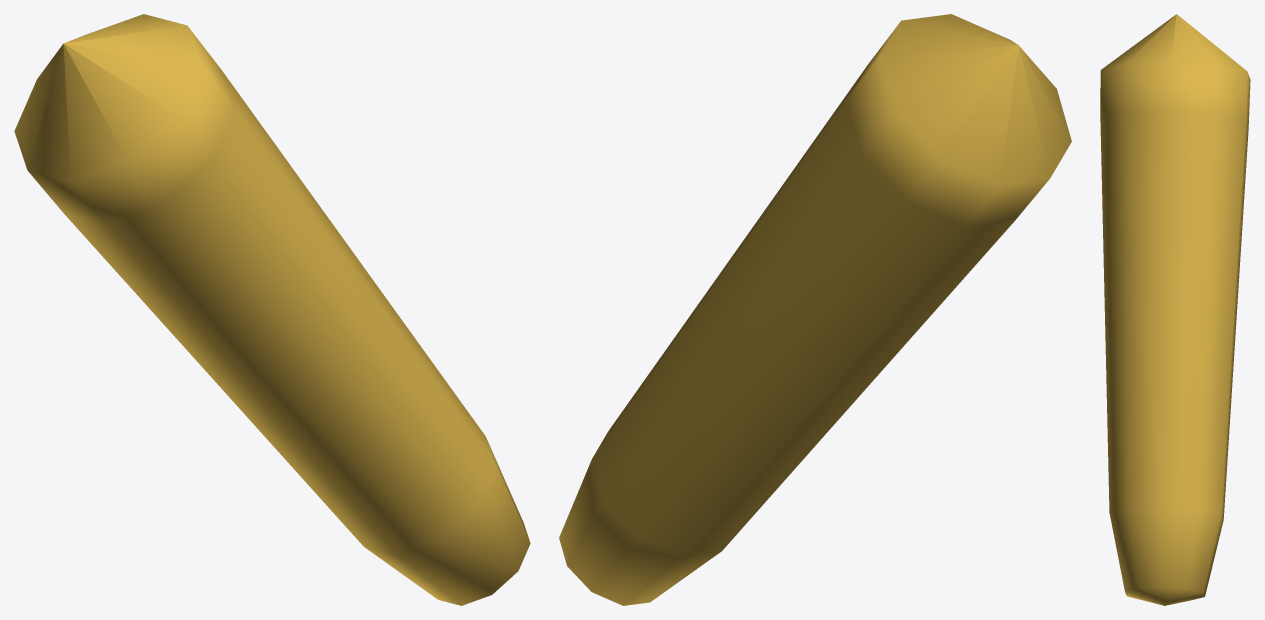
File: forearm_L.obj
The picture shows the model from 3 angles, left to right: view 1: azimuth 30°, elevation 25°; view 2: azimuth 150°, elevation 25°; view 3: azimuth 270°, elevation 25°; orthographic projection. The views are drawn at different scales.
Visible parts, largest first — view 1: forearm_L; view 2: forearm_L; view 3: forearm_L.
Boxes of the visible parts, bbox=[...] form: forearm_L: bbox=[14, 14, 530, 605]; forearm_L: bbox=[559, 14, 1071, 605]; forearm_L: bbox=[1100, 14, 1250, 605].
Size of the model in its own units: 0.1486 by 0.1883 by 0.0558.
